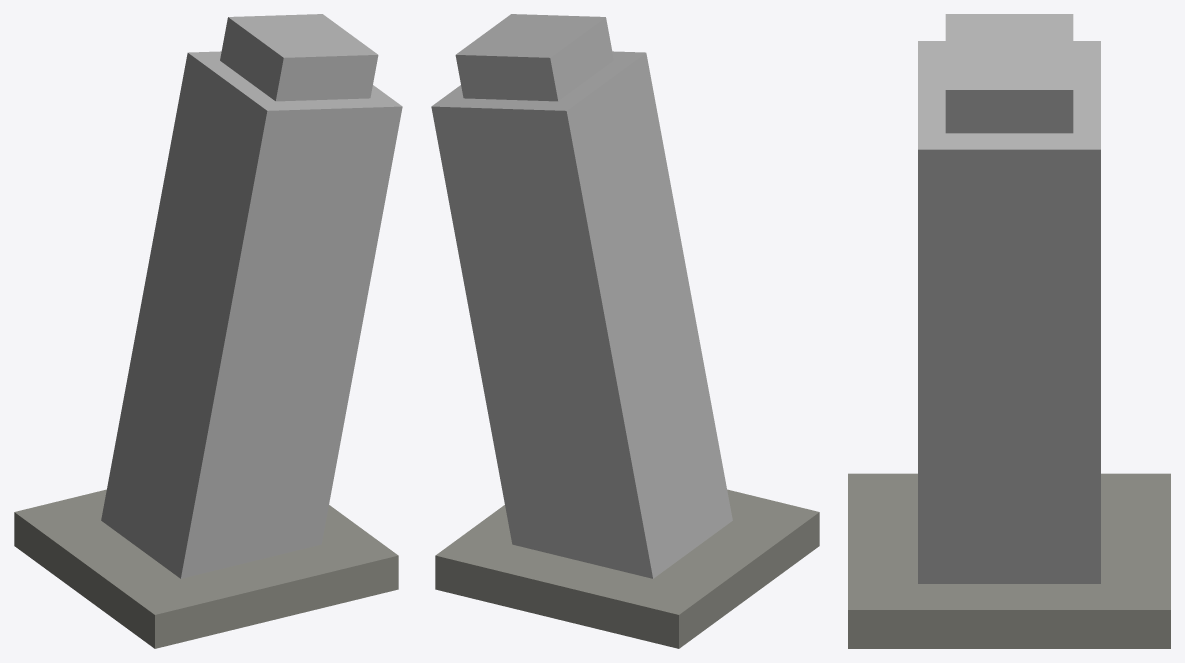
The model's file is SM_poste_km_v1_LOD1.fbx.
3 renders of one model, left to right at view 1: azimuth 30°, elevation 25°; view 2: azimuth 150°, elevation 25°; view 3: azimuth 270°, elevation 25°, orthographic. The views are drawn at different scales.
Visible parts, largest first — view 1: SM_bloques.poste_km_v1_LOD1; view 2: SM_bloques.poste_km_v1_LOD1; view 3: SM_bloques.poste_km_v1_LOD1.
Part boxes in pixels (x1,y1,x2,y2): SM_bloques.poste_km_v1_LOD1: [14, 14, 402, 648]; SM_bloques.poste_km_v1_LOD1: [431, 14, 819, 648]; SM_bloques.poste_km_v1_LOD1: [848, 14, 1170, 648].
Size of the model in its own units: 0.6851 by 1.23 by 0.6.
